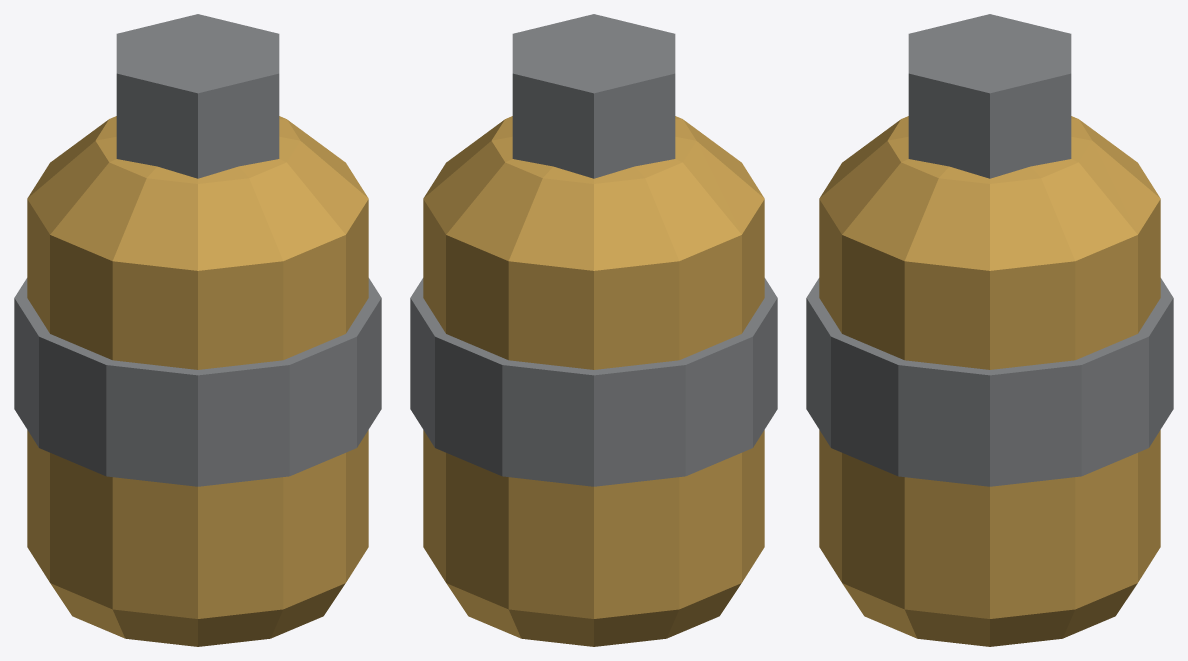
File: vge_item_oxygen_pack.obj
3 renders of one model, left to right at view 1: azimuth 30°, elevation 25°; view 2: azimuth 150°, elevation 25°; view 3: azimuth 270°, elevation 25°, orthographic.
Visible parts, largest first — view 1: vge_item_oxygen_pack_0, vge_item_oxygen_pack_1, vge_item_oxygen_pack_2; view 2: vge_item_oxygen_pack_0, vge_item_oxygen_pack_1, vge_item_oxygen_pack_2; view 3: vge_item_oxygen_pack_0, vge_item_oxygen_pack_1, vge_item_oxygen_pack_2.
Part boxes in pixels (box(x1,y1,x2,y2)): vge_item_oxygen_pack_0: box(27, 116, 368, 646); vge_item_oxygen_pack_1: box(14, 278, 381, 486); vge_item_oxygen_pack_2: box(116, 14, 279, 178); vge_item_oxygen_pack_0: box(423, 116, 764, 646); vge_item_oxygen_pack_1: box(410, 278, 777, 486); vge_item_oxygen_pack_2: box(512, 14, 675, 178); vge_item_oxygen_pack_0: box(819, 116, 1160, 646); vge_item_oxygen_pack_1: box(806, 278, 1173, 486); vge_item_oxygen_pack_2: box(908, 14, 1071, 178).
Size of the model in its own units: 0.172 by 0.275 by 0.172.
